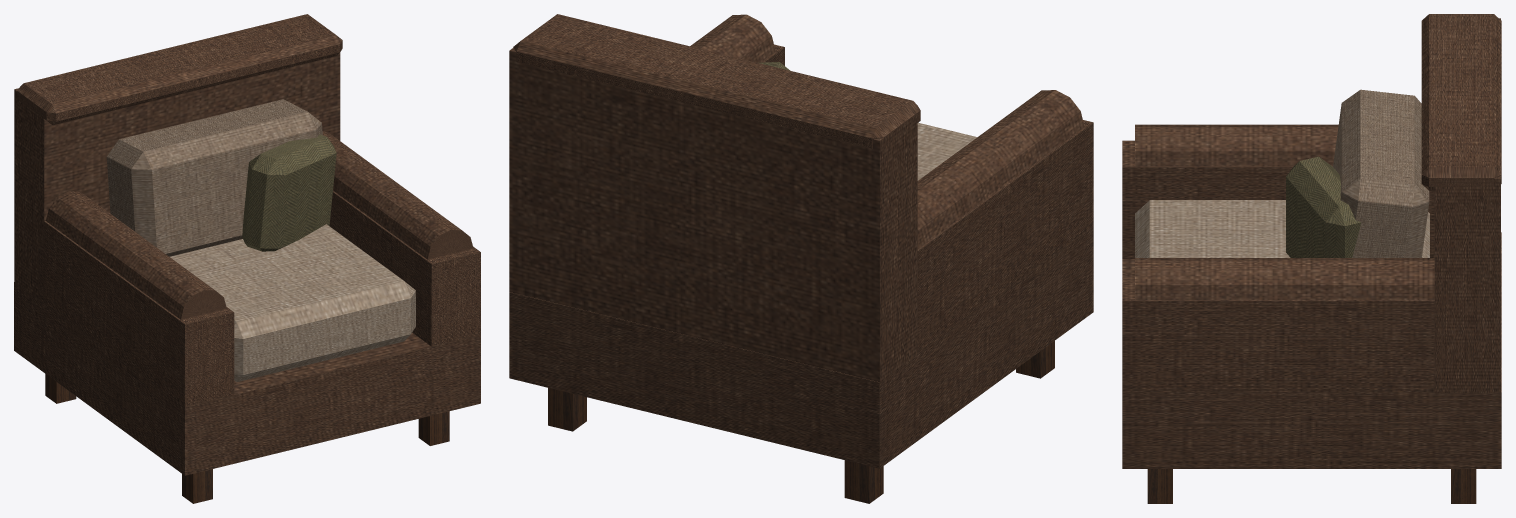
File: armchair.glb
3 views of the same model, side by side, from view 1: azimuth 30°, elevation 25°; view 2: azimuth 150°, elevation 25°; view 3: azimuth 270°, elevation 25° (orthographic). The views are drawn at different scales.
Parts seen in each view (by area): view 1: core_armchair; view 2: core_armchair; view 3: core_armchair.
Boxes of the visible parts, x1,y1,x2,y2 form: core_armchair: (14, 14, 480, 503); core_armchair: (509, 14, 1093, 503); core_armchair: (1122, 14, 1501, 503).
Bounding box in the file's own units: 0.9 × 0.9 × 0.9.
1 material, 1 textured.
